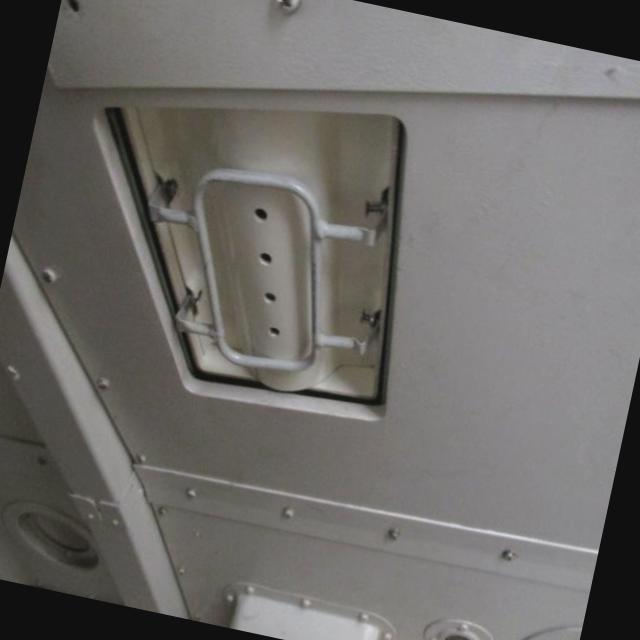Missing Fastener: (211, 194, 319, 347), (57, 0, 90, 25)
